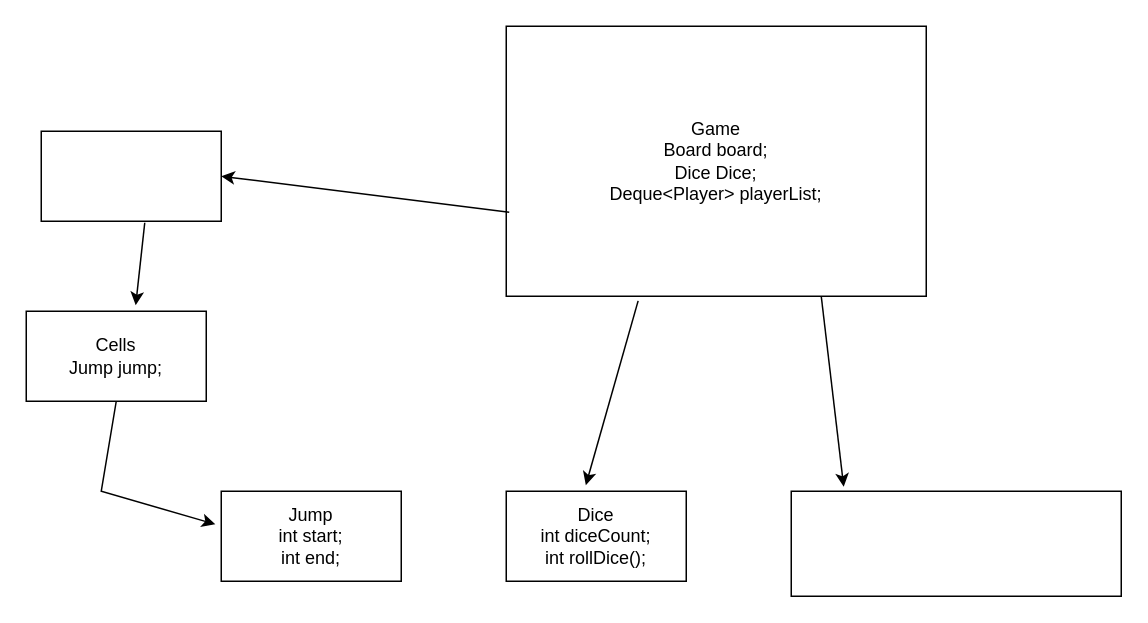
Some shapes in this 1148 by 623 pixel diagram are drawn without their labels. Here are the shapes that lost their labels. From the top down, the centre of each, then its label:
At point 130,175: "Board Cells[][] cells;".
At point 955,543: "Player{ String id; int currentPosition; }".
